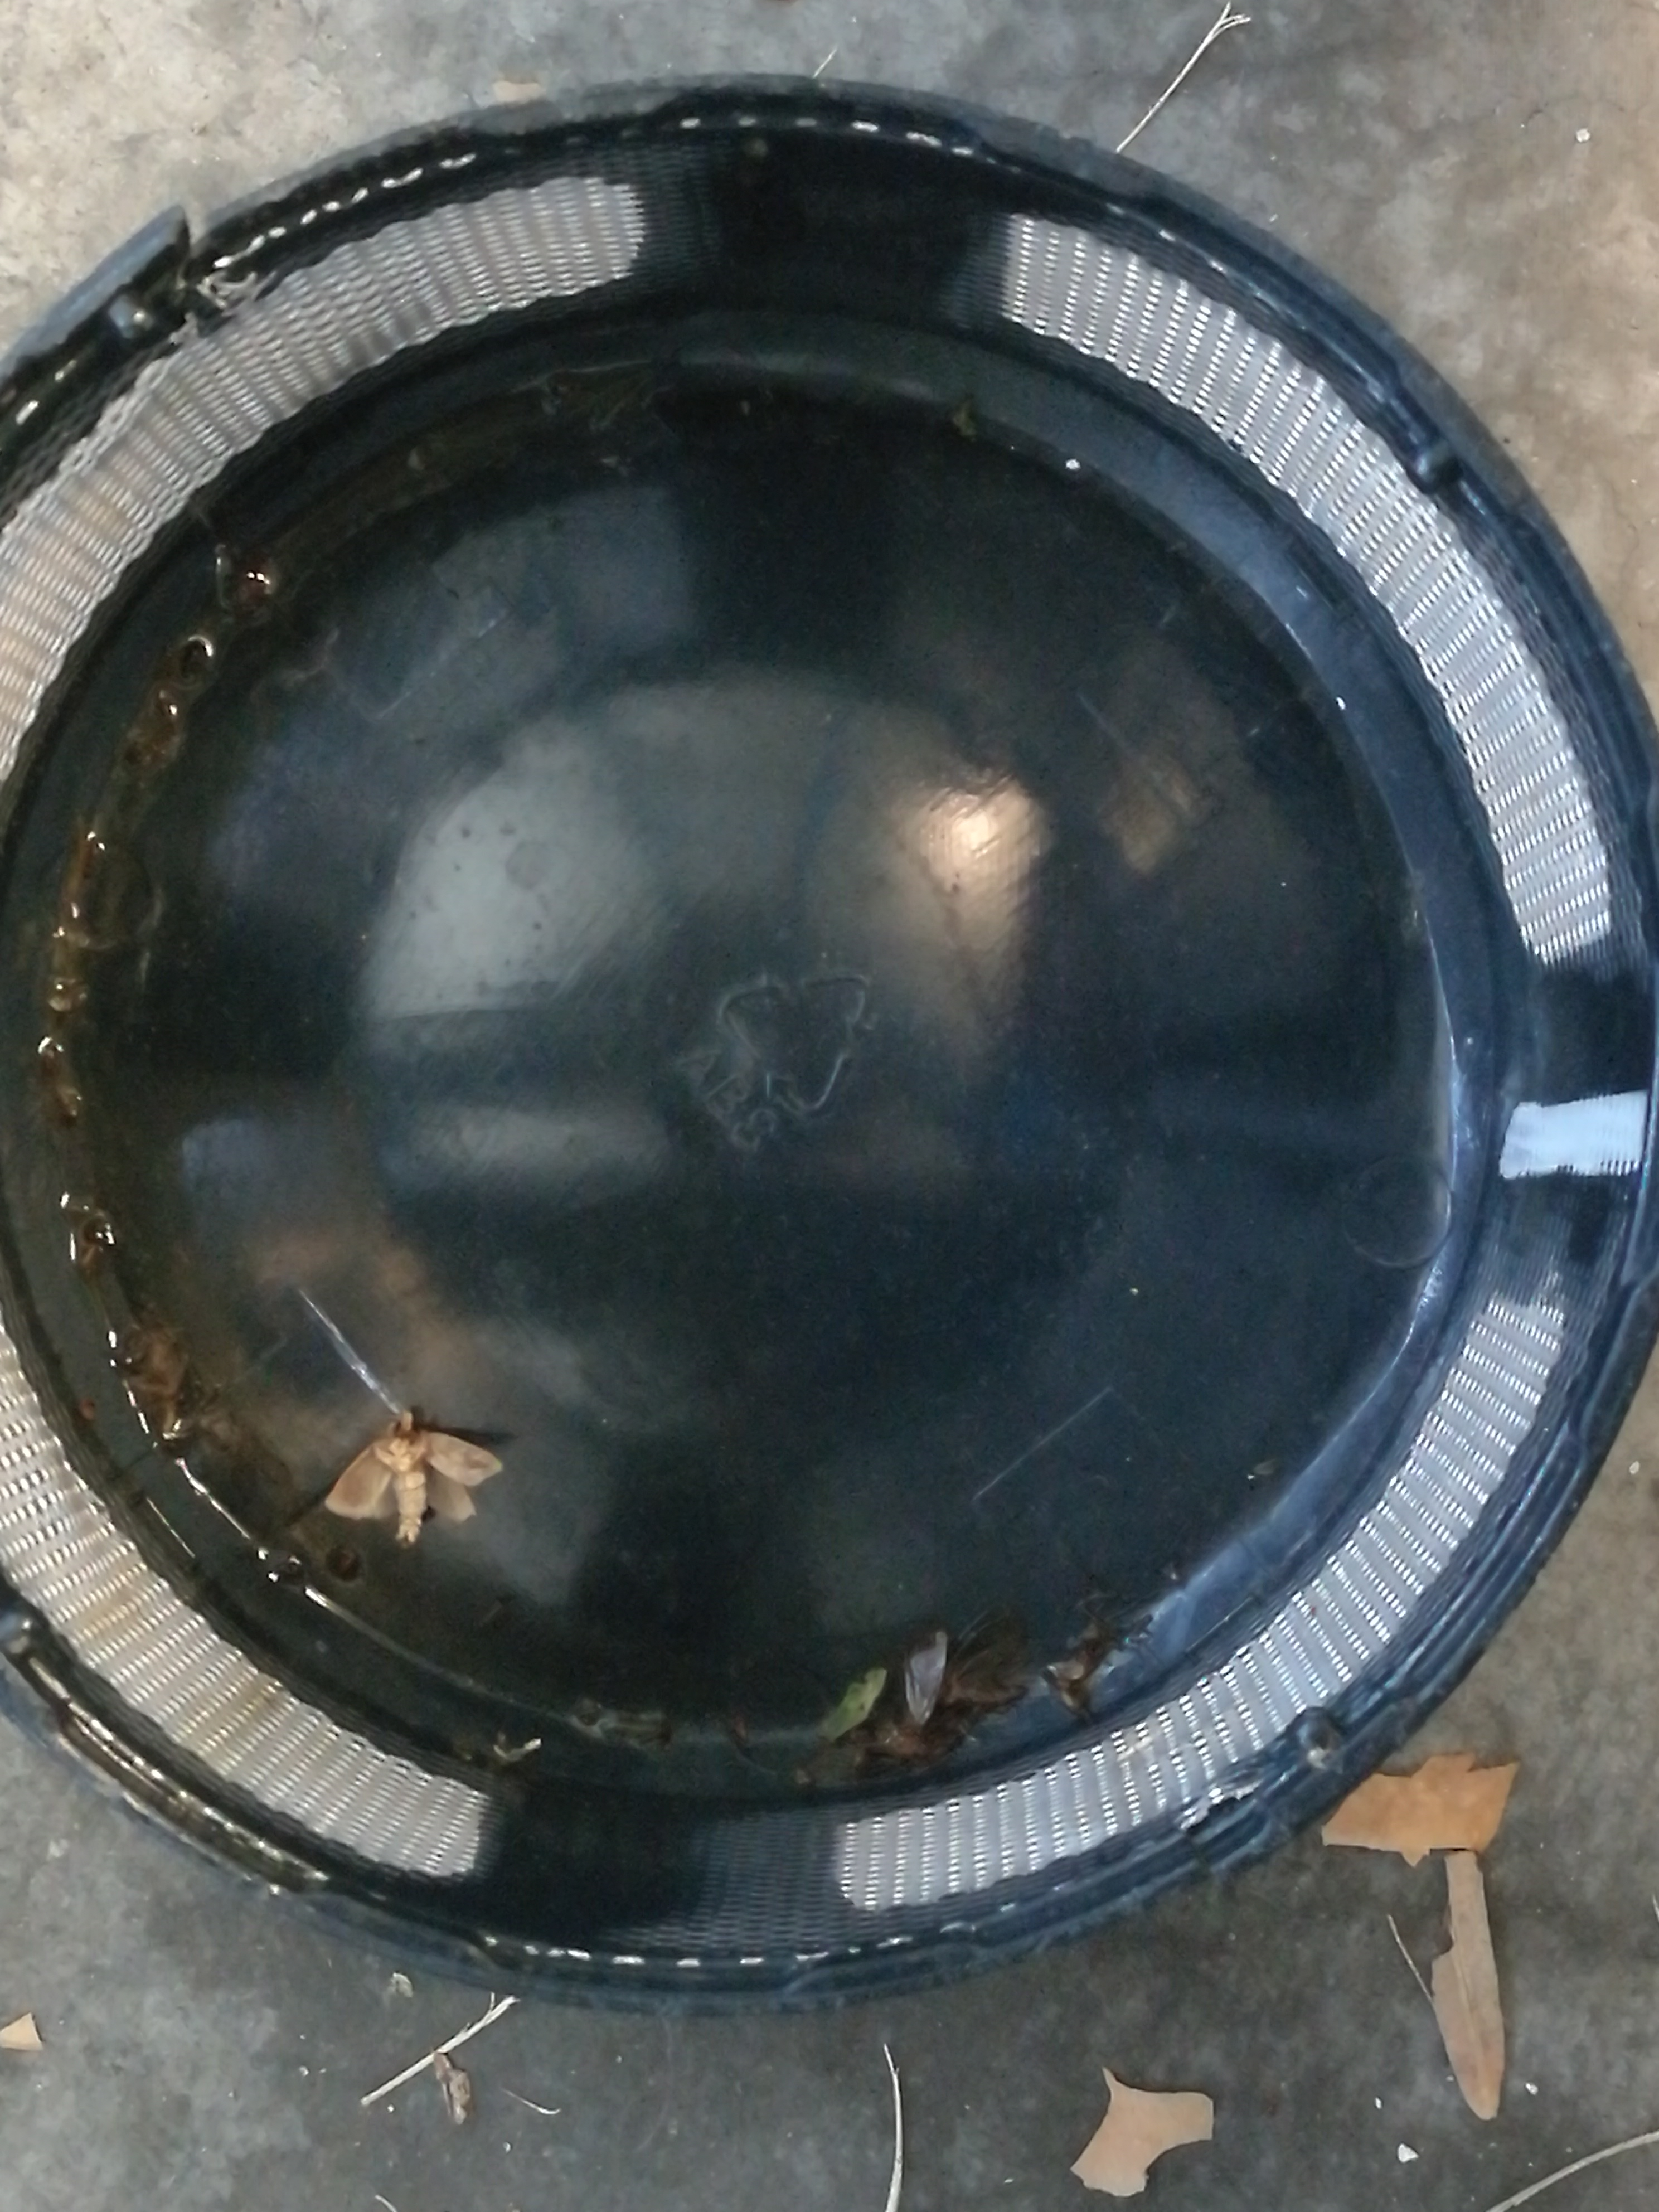moth: (326, 1409, 500, 1545), (946, 1613, 1026, 1700)
